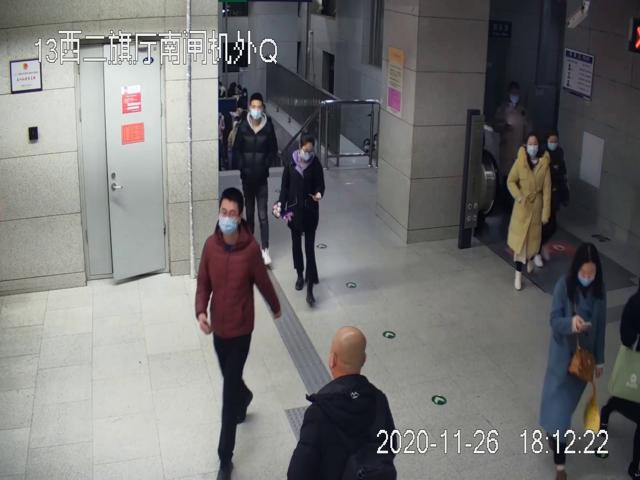person: (194, 188, 283, 480), (541, 242, 608, 480), (279, 130, 326, 306), (233, 93, 278, 266), (506, 132, 552, 291)
